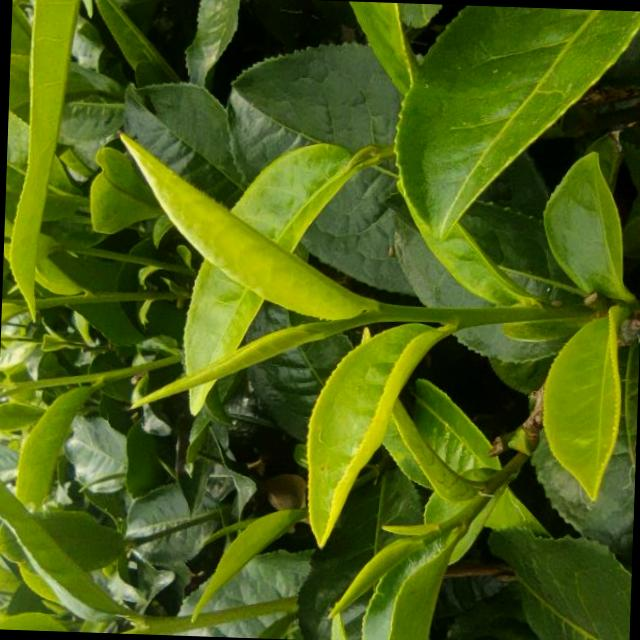Stem: (380, 304, 448, 324), (145, 615, 190, 635), (482, 466, 509, 493), (99, 369, 119, 384)
